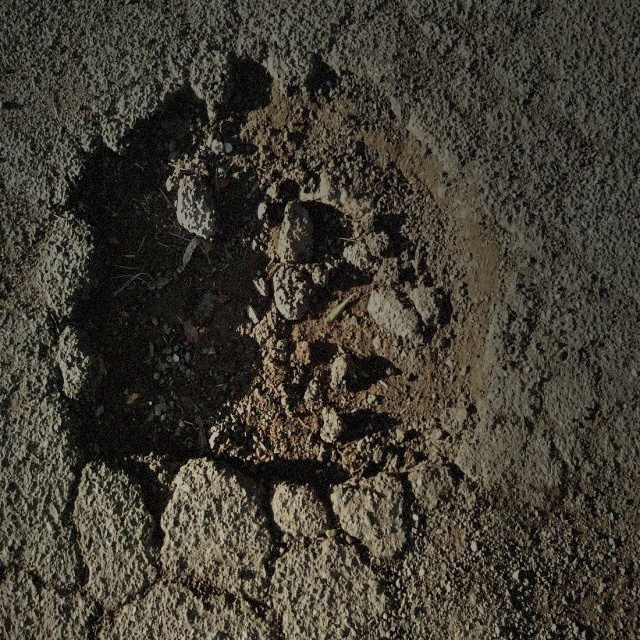pothole: (51, 41, 506, 518)
